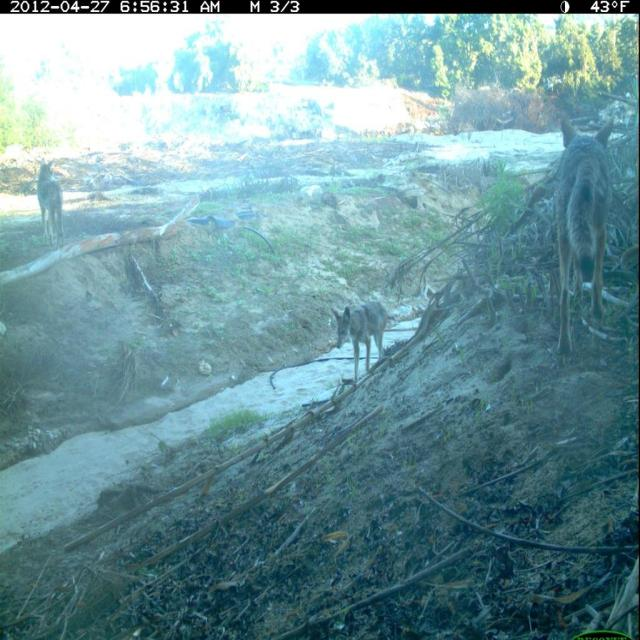coyote: (550, 99, 618, 364), (328, 282, 397, 392), (26, 156, 73, 258)
